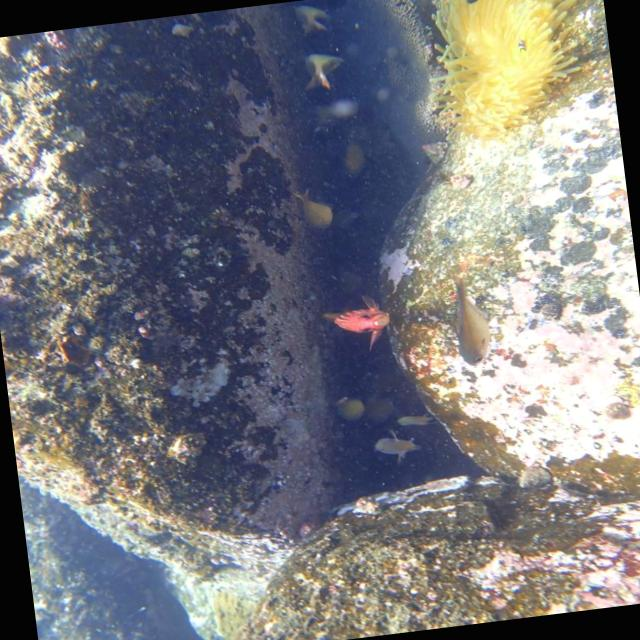Asker Baligi: (306, 286, 402, 358)
